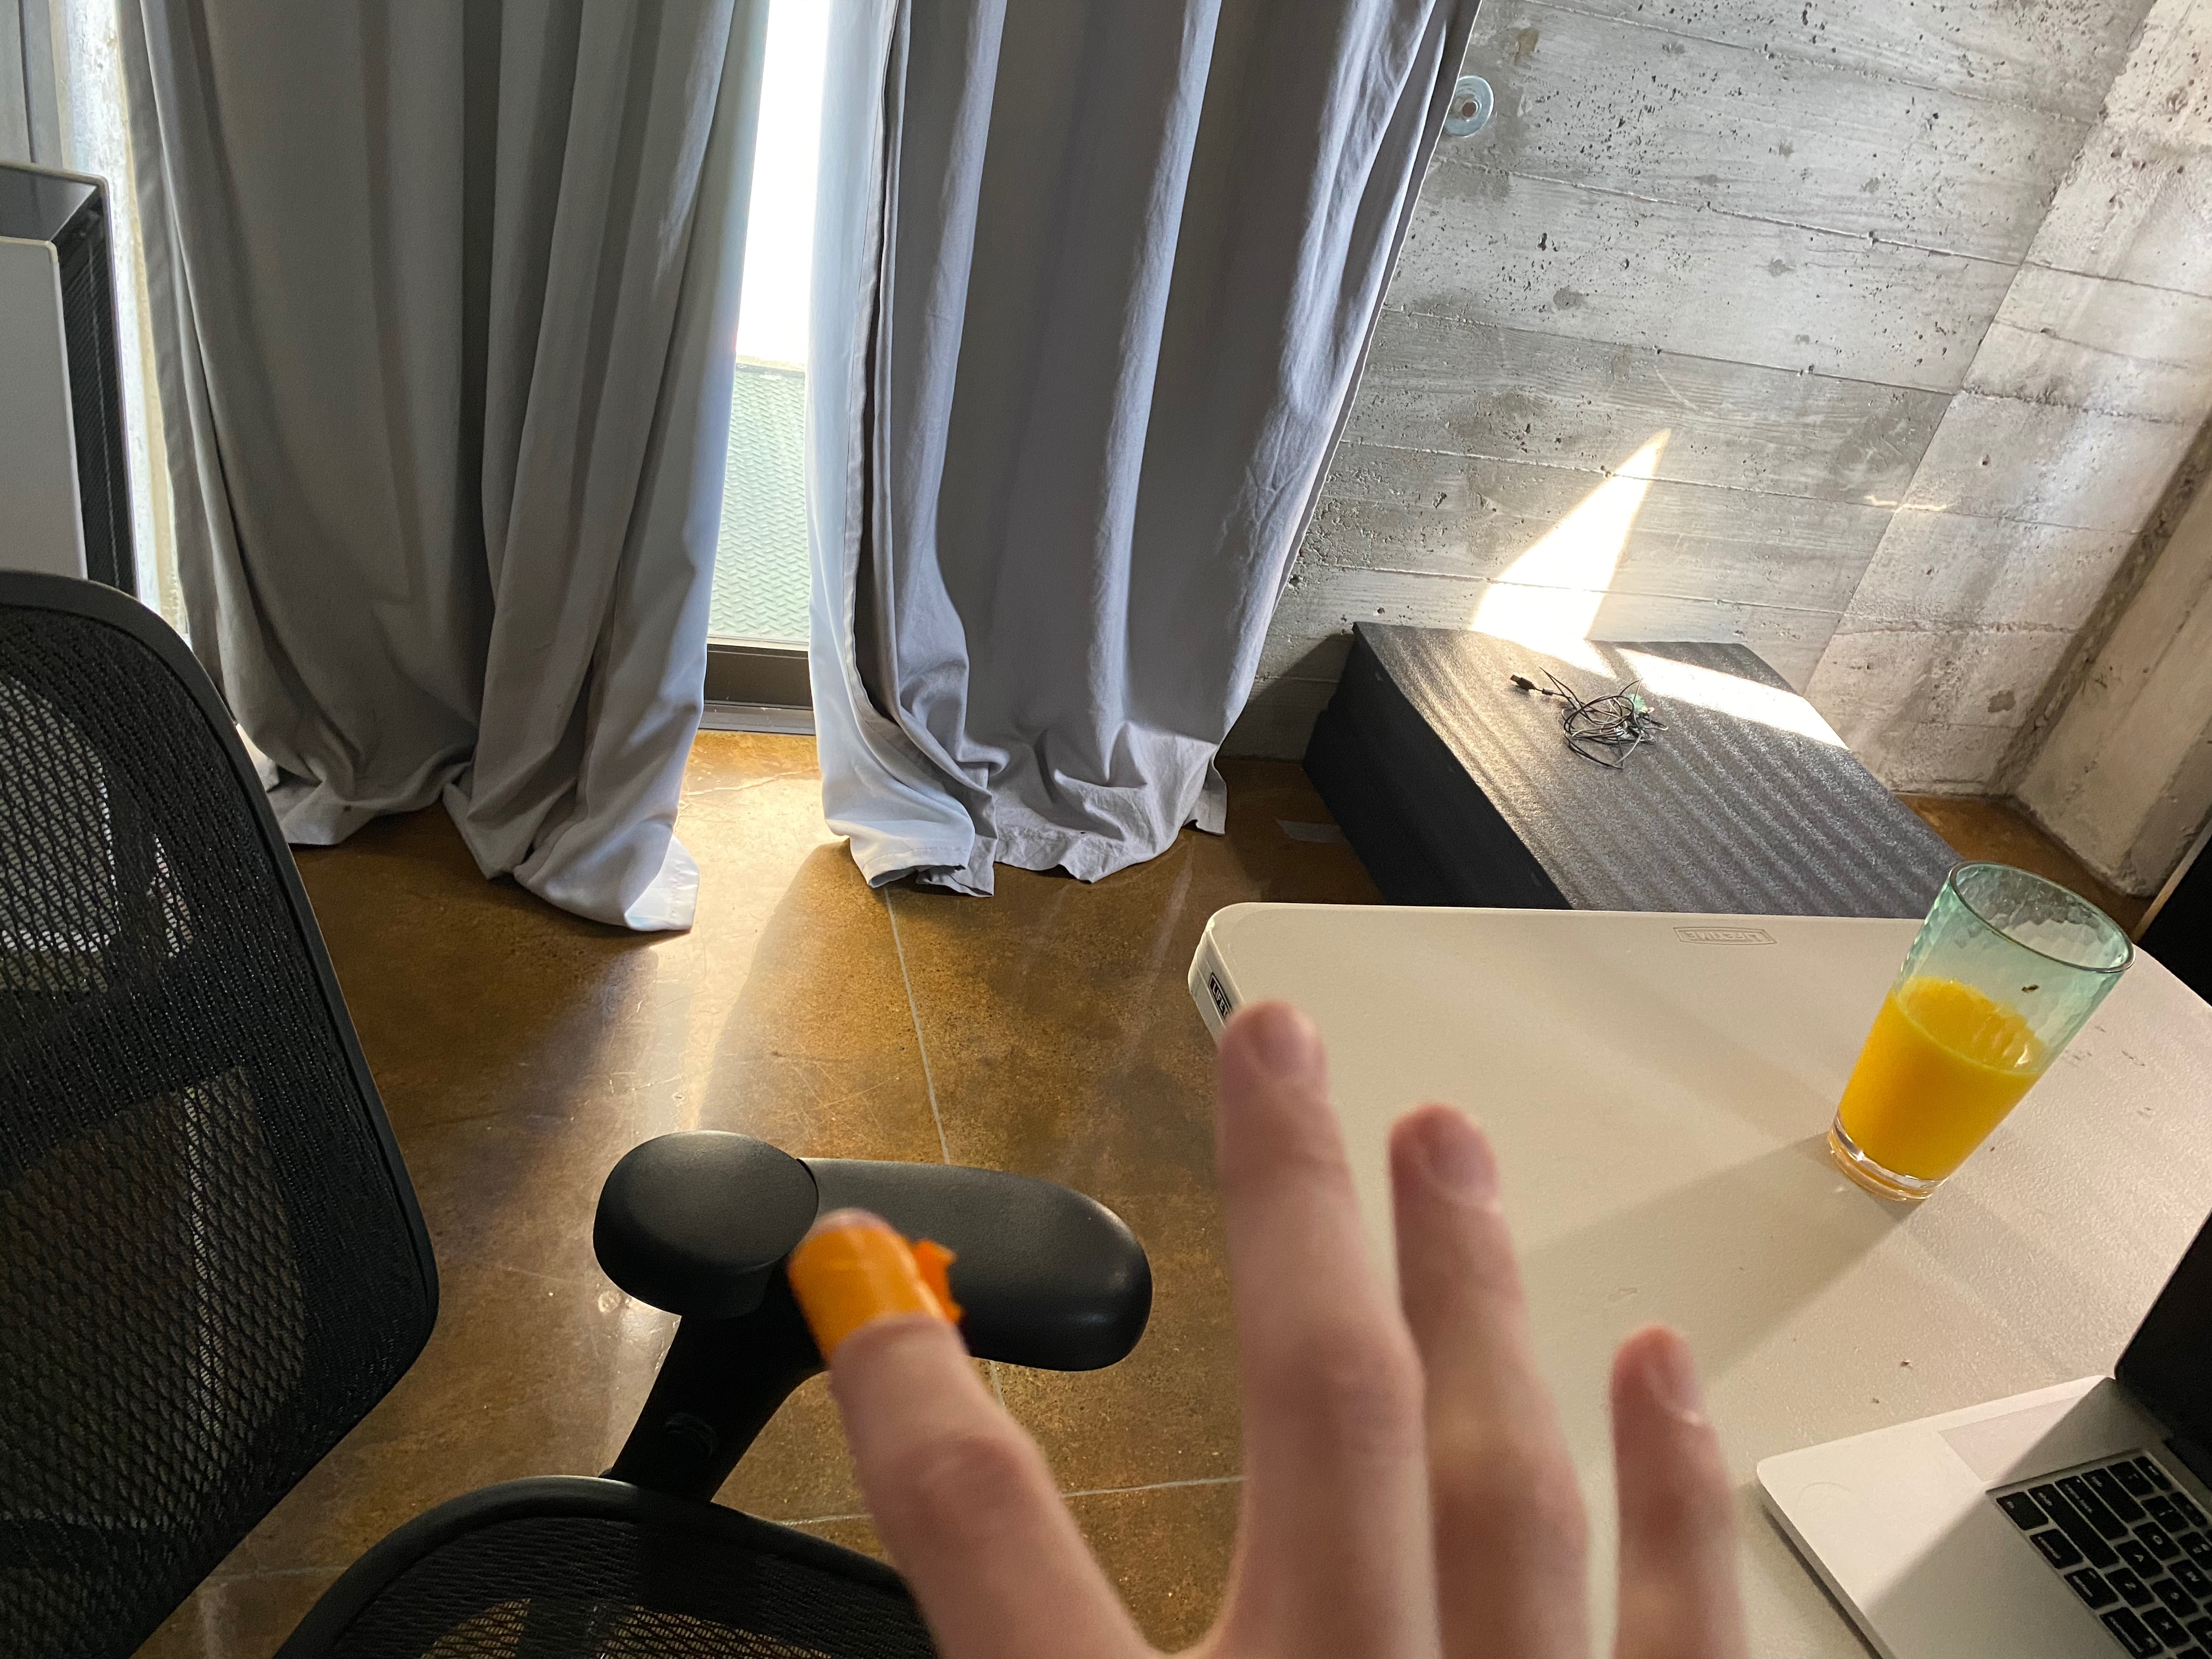fingertip: (777, 1208, 981, 1412)
